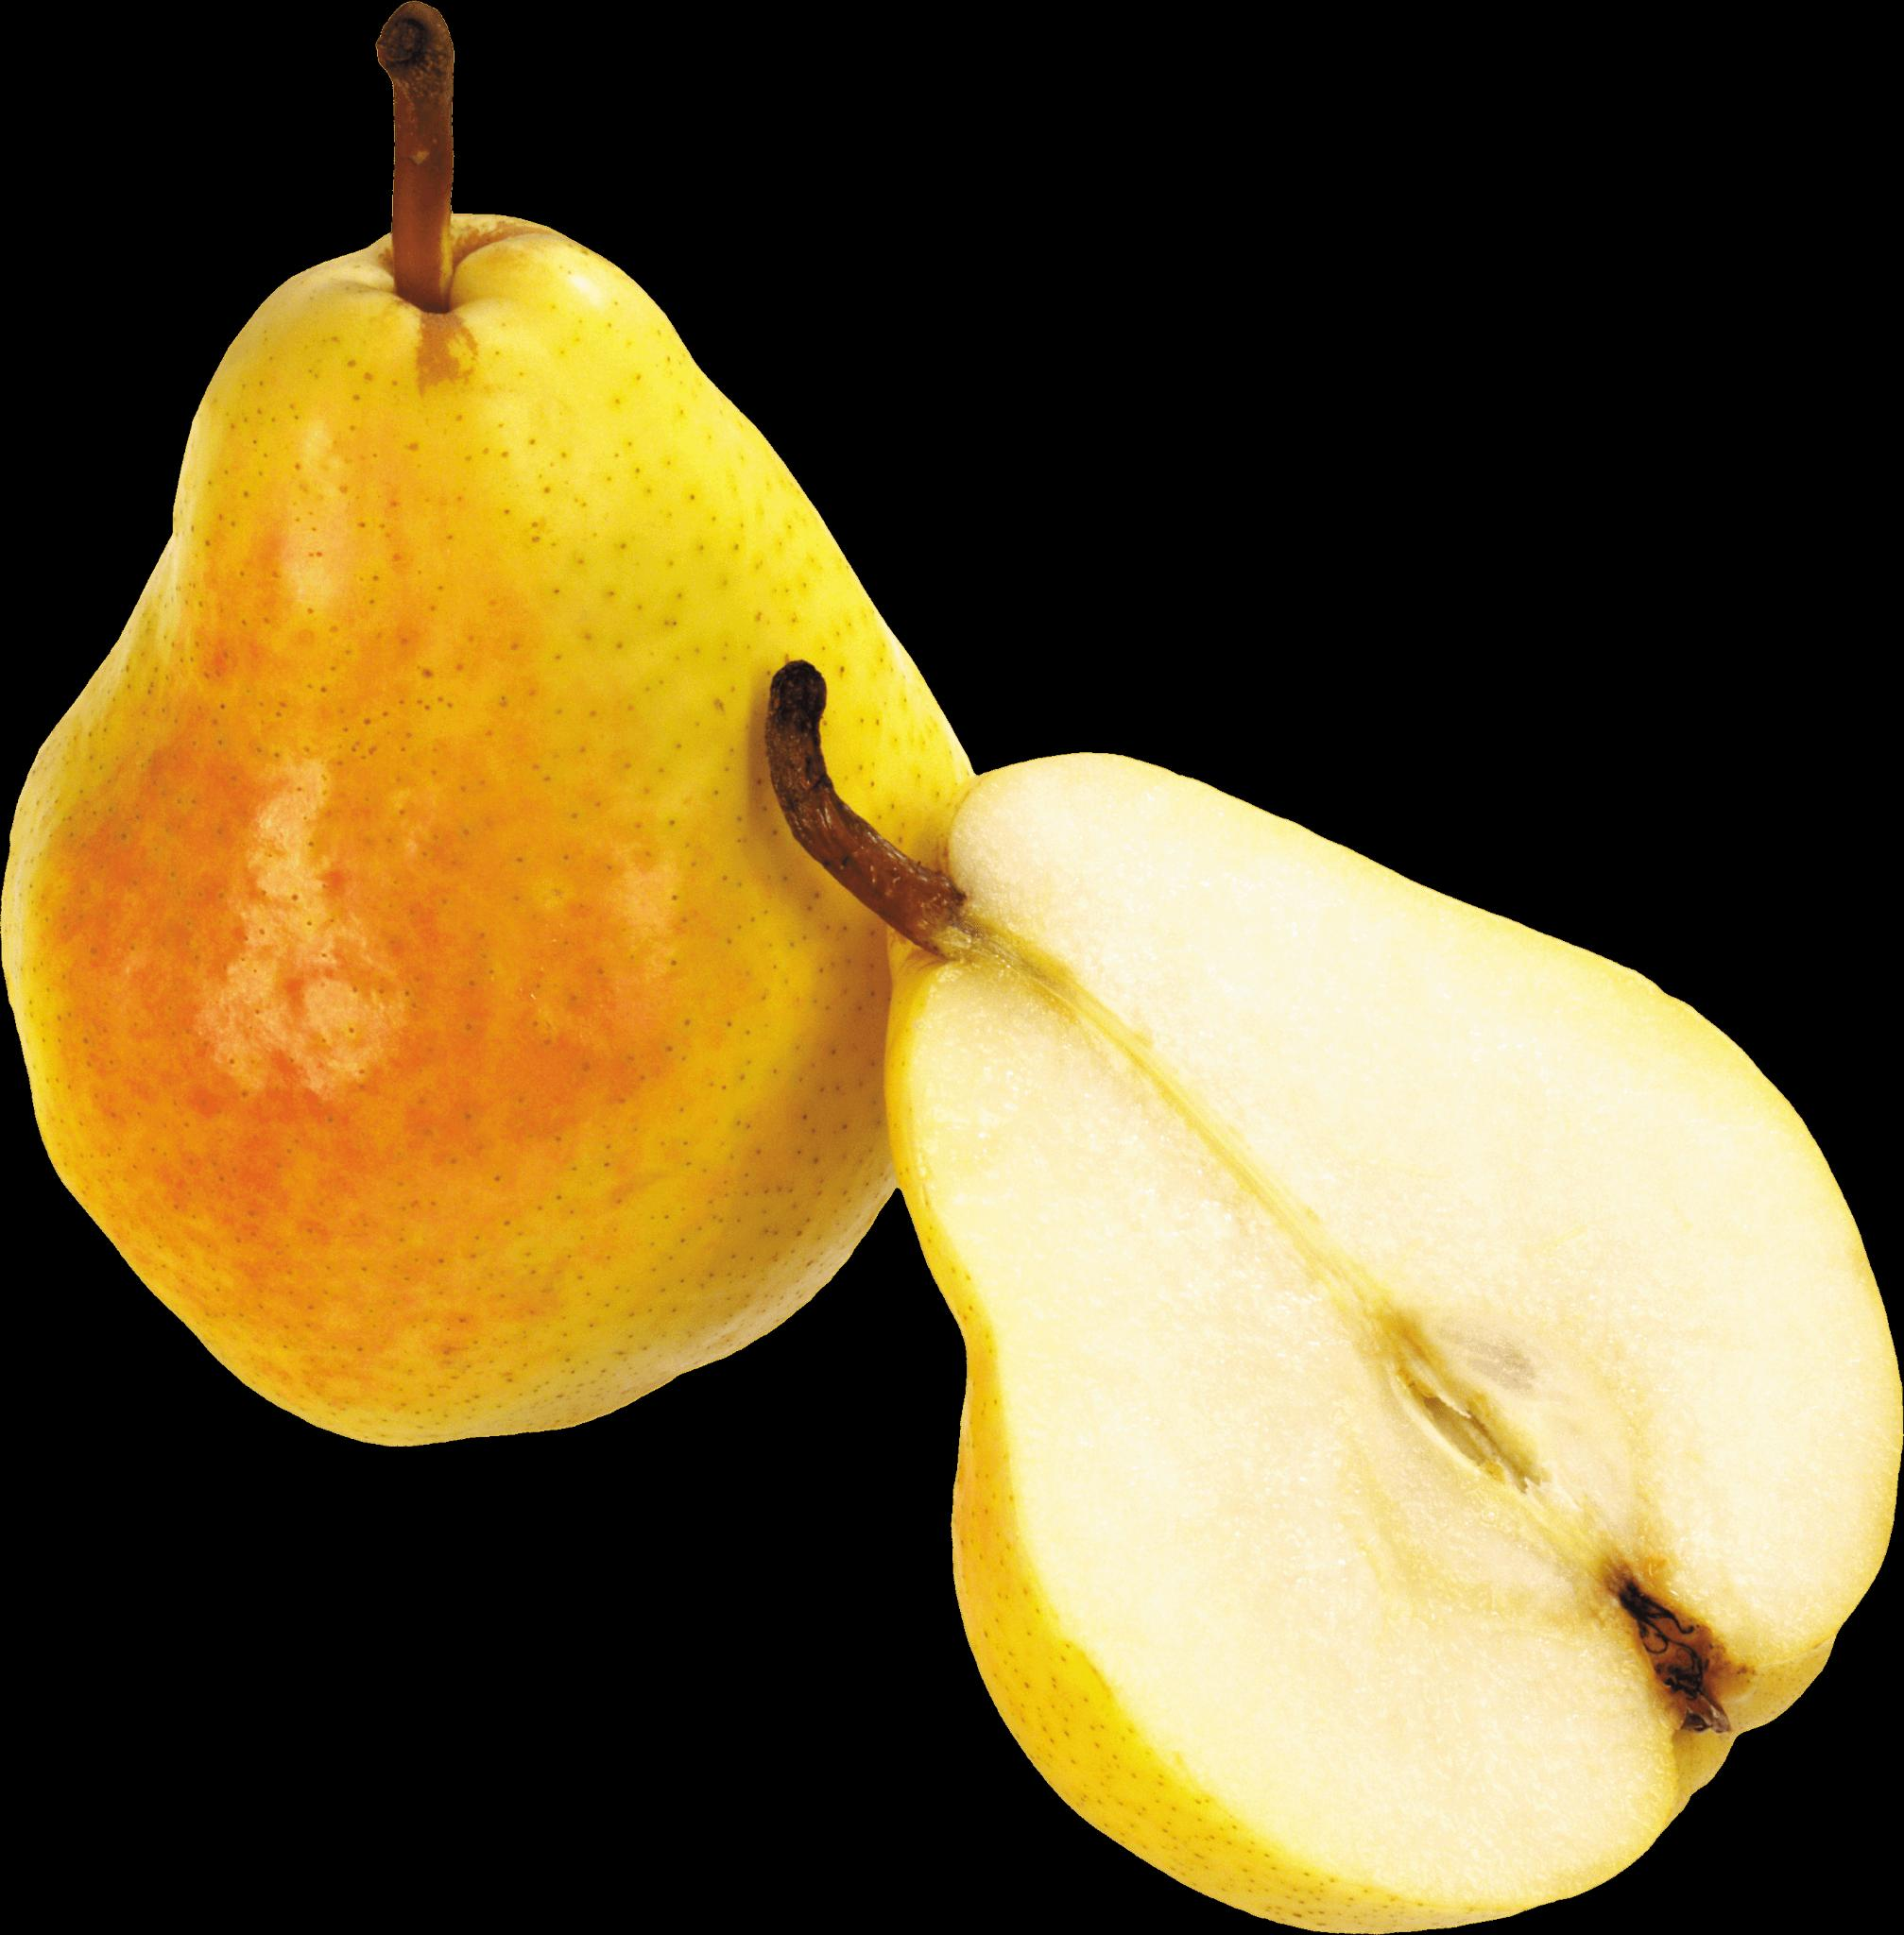Pear Semifresh: (0, 0, 989, 1499)
